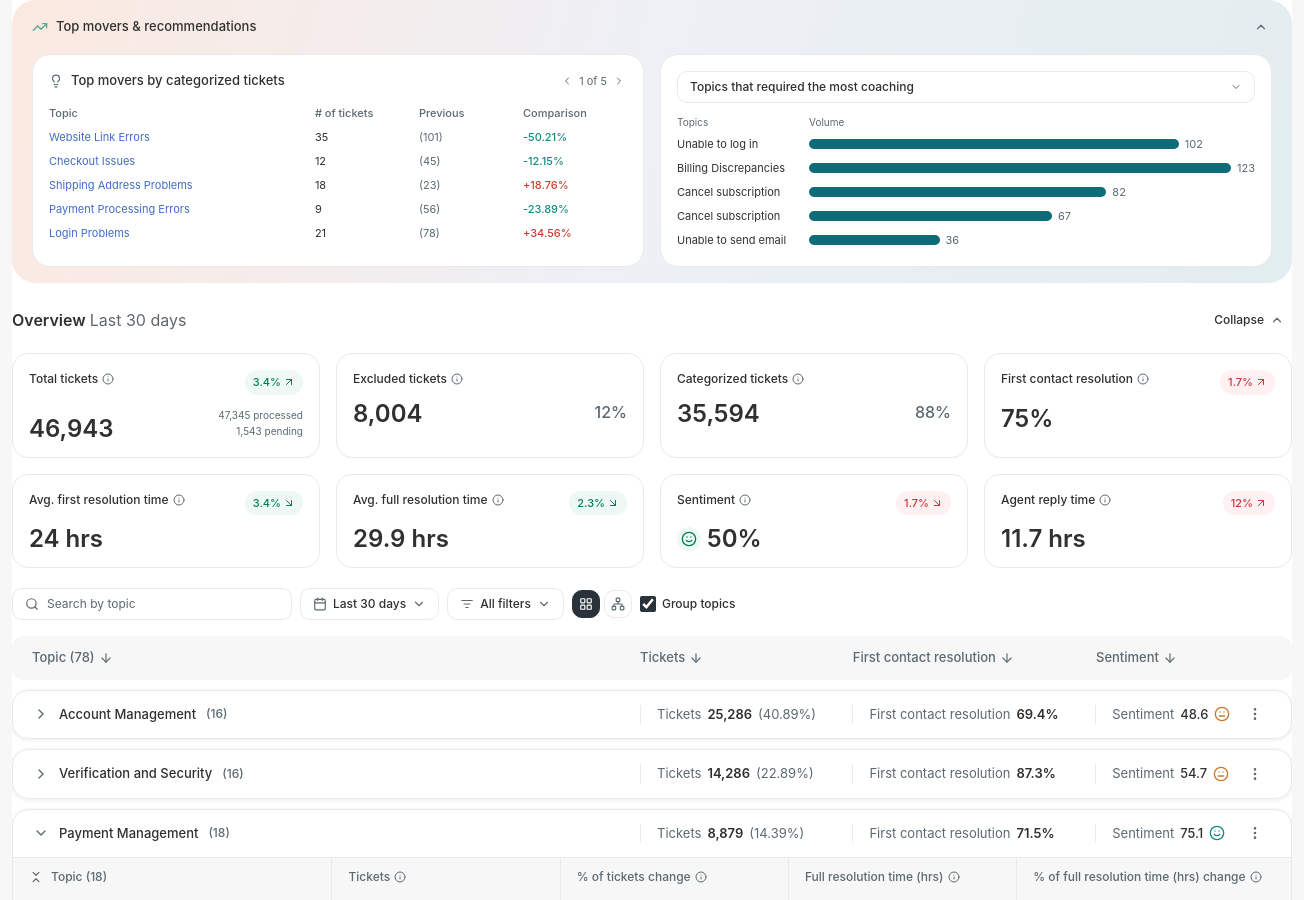
it: TopicsView › collapses the overview metrics while keeping the topics table visible
Check: the text "Total tickets" is shown, box x1=29 y1=370 x2=114 y2=388
Step 1. Click the button with aria-label "Collapse overview" → click(1249, 320), box x1=1206 y1=307 x2=1292 y2=333
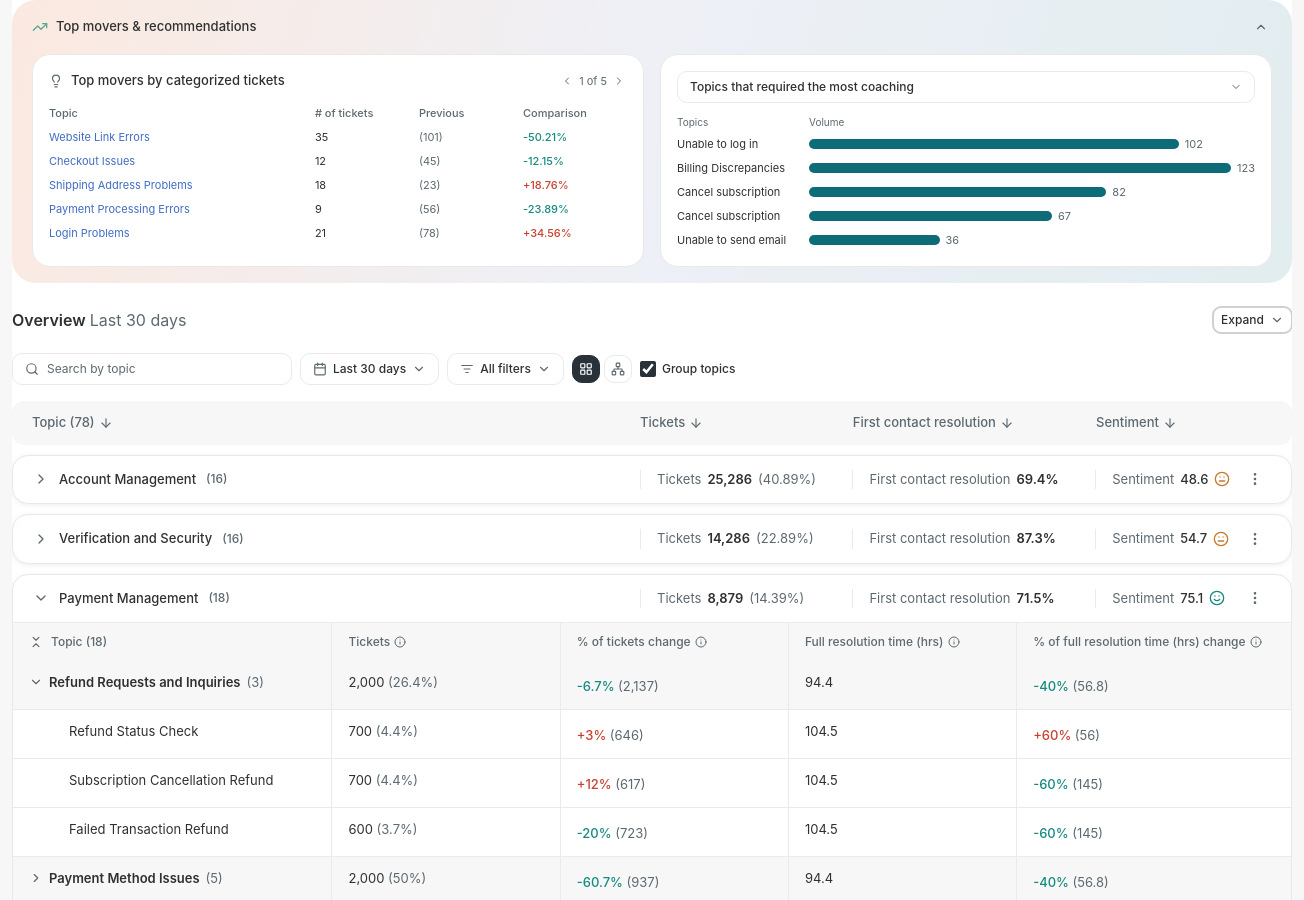
Check: the text "Account Management" is shown, box x1=59 y1=470 x2=196 y2=489
Check: the text "Total tickets" is gone
Step 2. Click the button with aria-label "Expand overview" → click(1253, 320), box x1=1213 y1=307 x2=1292 y2=333
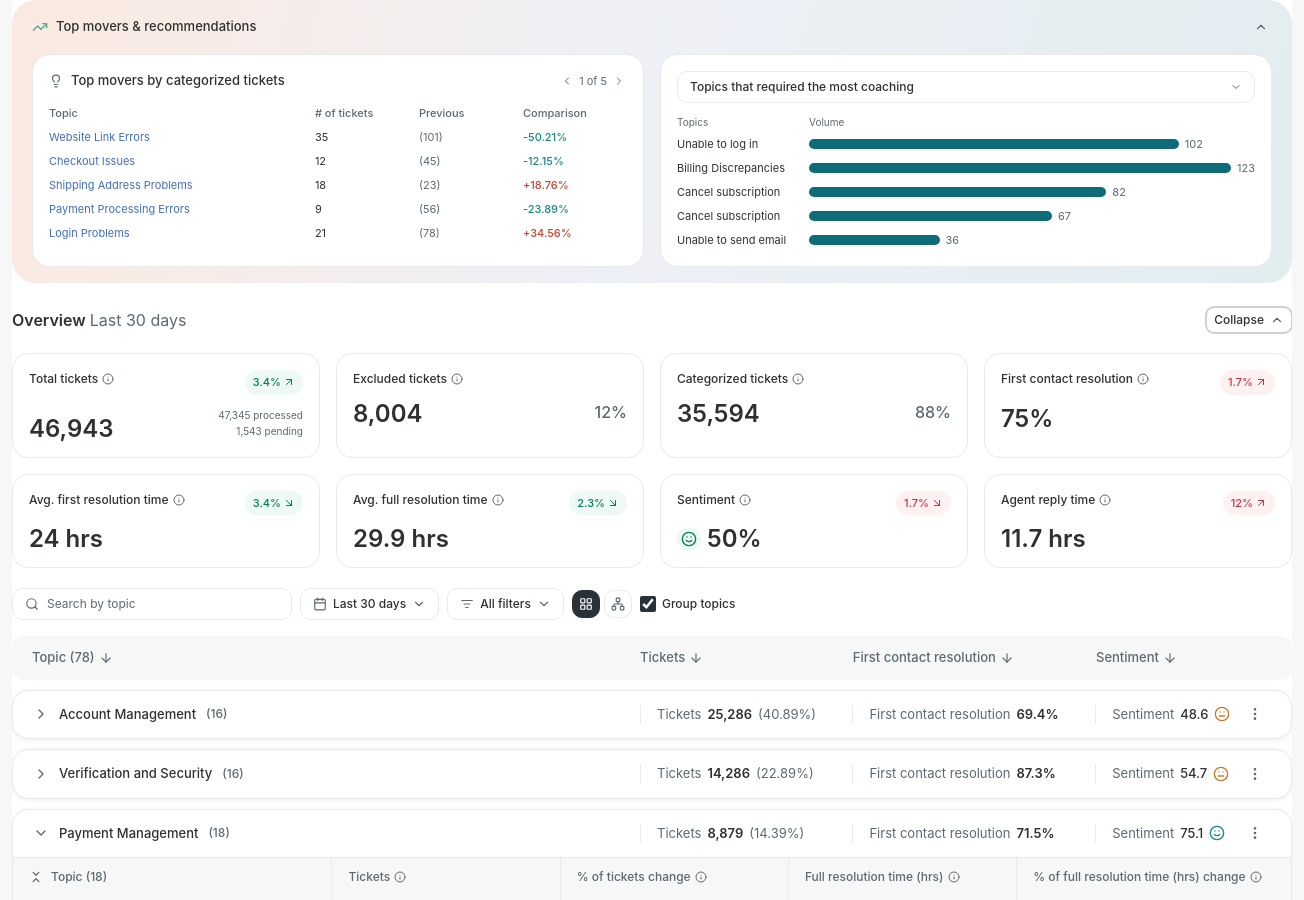
Check: the text "Total tickets" is shown, box x1=29 y1=370 x2=114 y2=388
